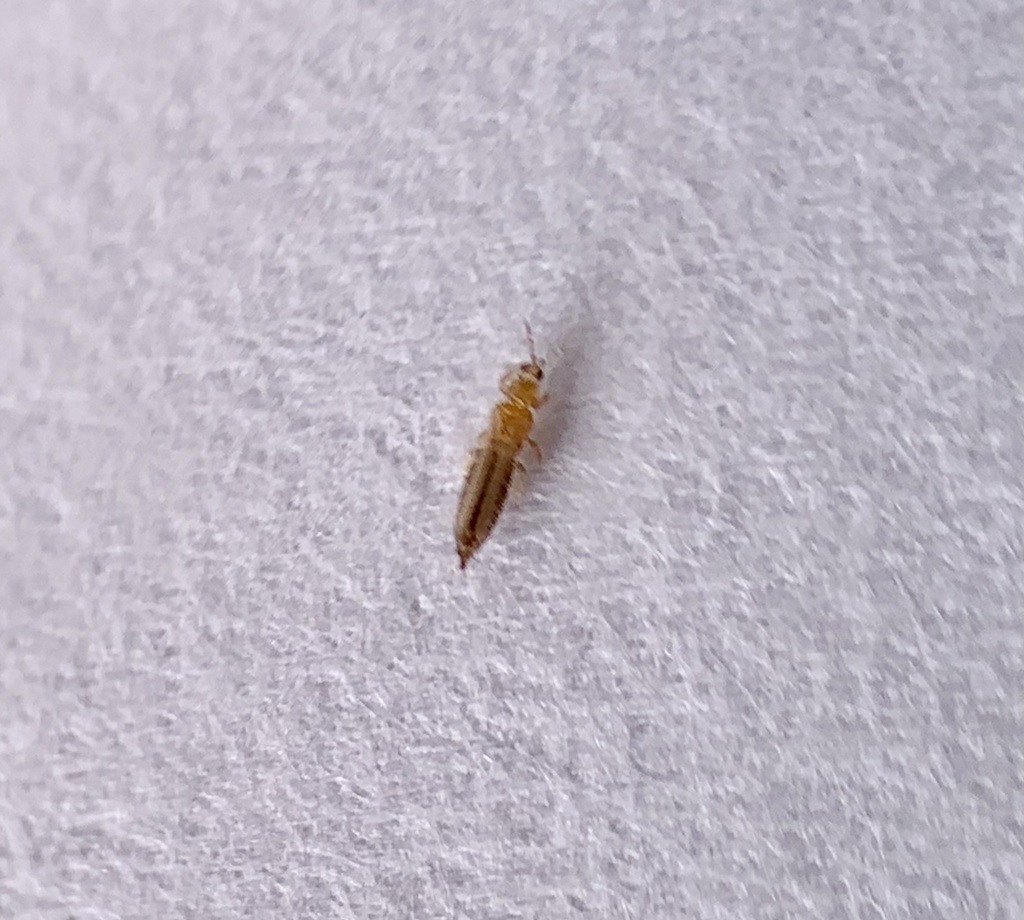tiny_pests: (365, 256, 649, 632)
